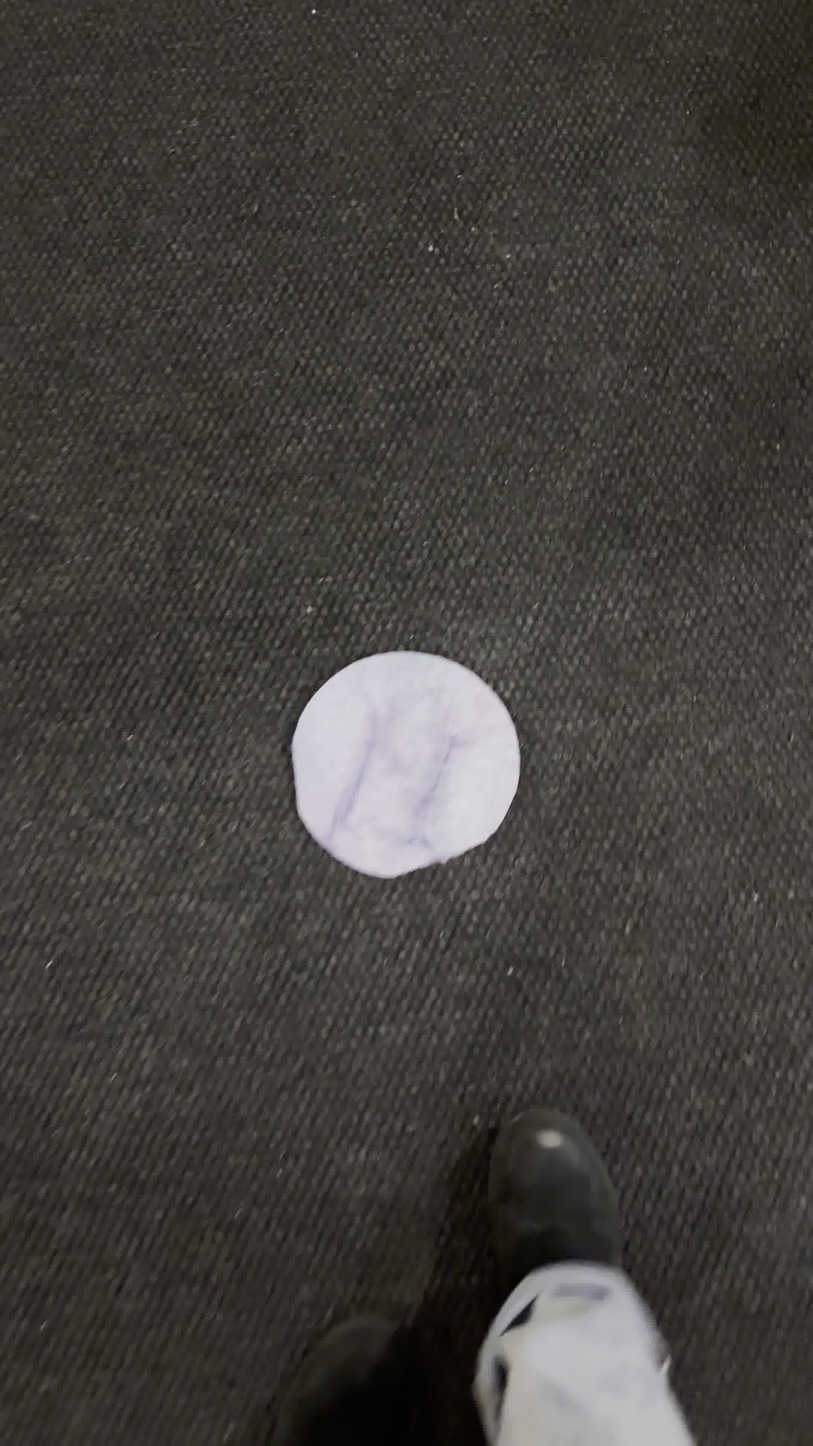Target: (290, 650, 518, 879)
